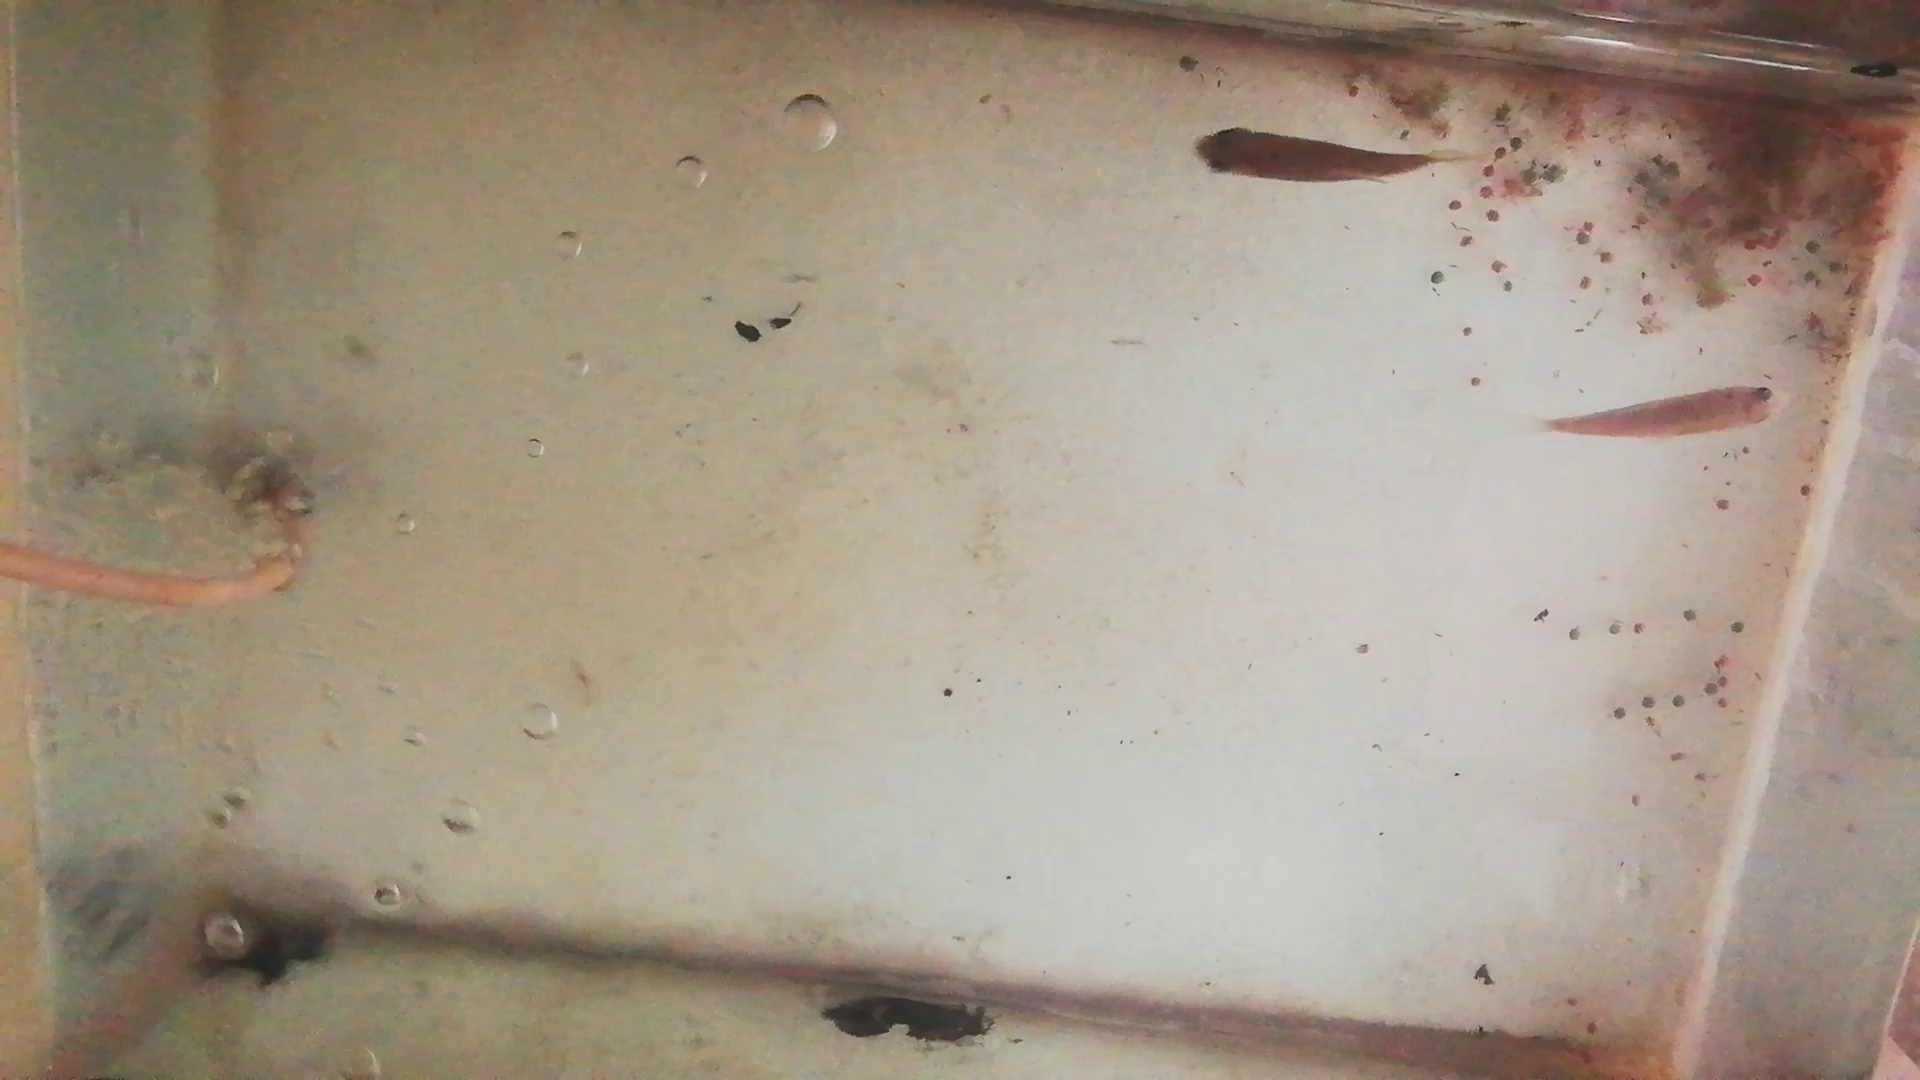fish: (1549, 380, 1795, 443), (1189, 125, 1433, 185)
